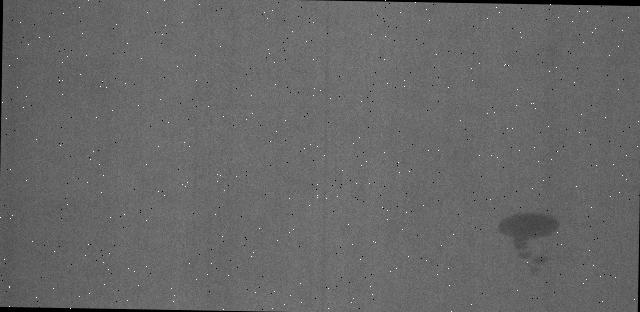oil_spot: (486, 202, 576, 275)
